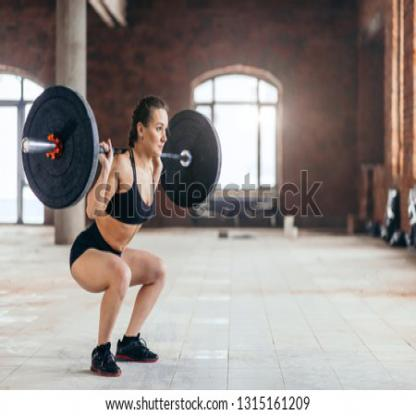Barbell: (15, 81, 104, 212)
